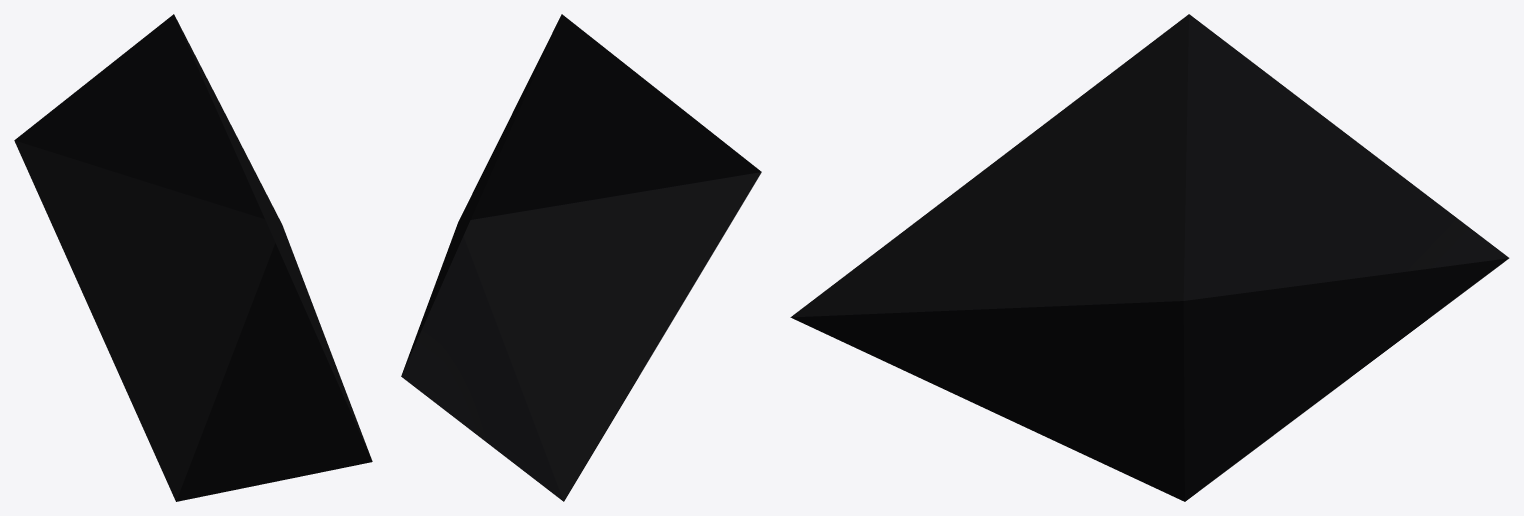
3 renders of one model, left to right at view 1: azimuth 30°, elevation 25°; view 2: azimuth 150°, elevation 25°; view 3: azimuth 270°, elevation 25°, orthographic.
Size of the model in its own units: 0.00292 by 0.0128 by 0.0171.
1 material, 1 textured.
